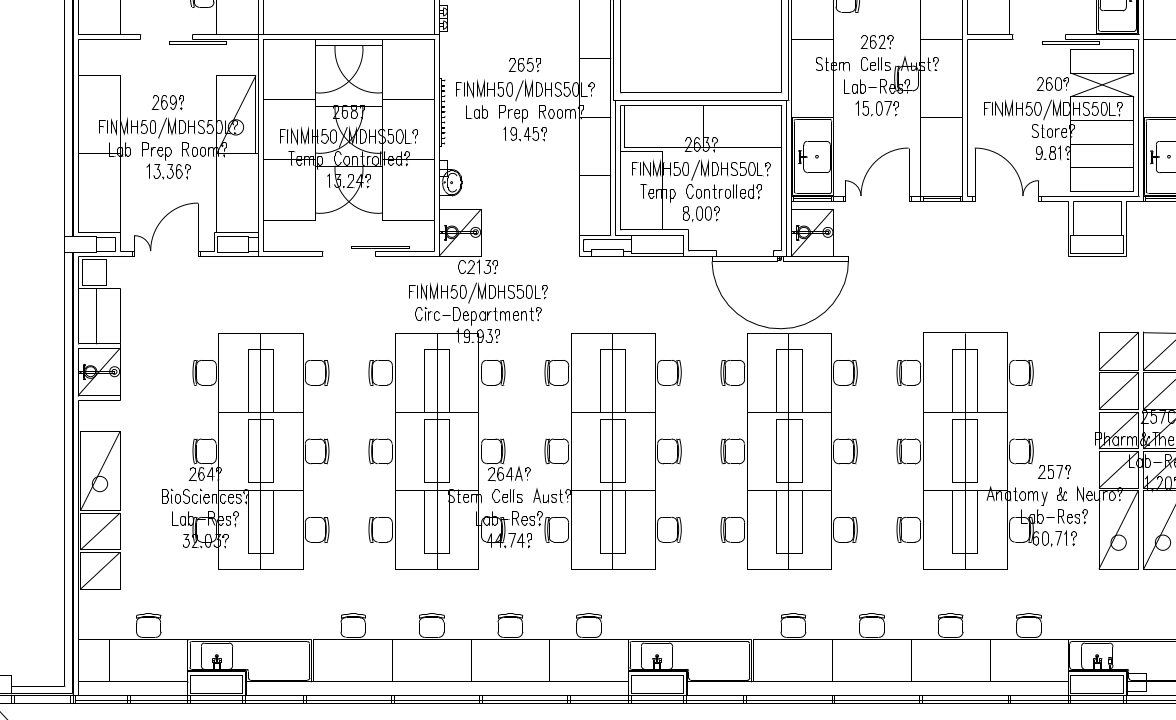door: (704, 255, 854, 330), (149, 191, 205, 261), (970, 140, 1024, 201), (859, 141, 913, 202)
